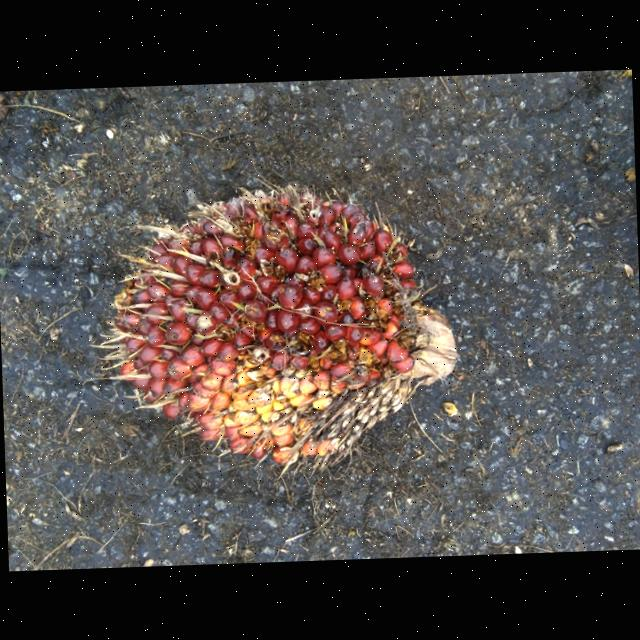Ripe: (102, 174, 446, 460)
